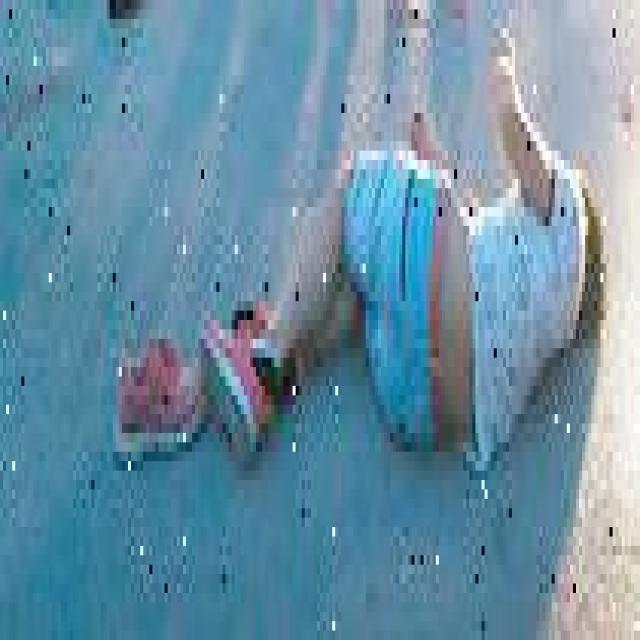fall: (214, 28, 592, 490)
